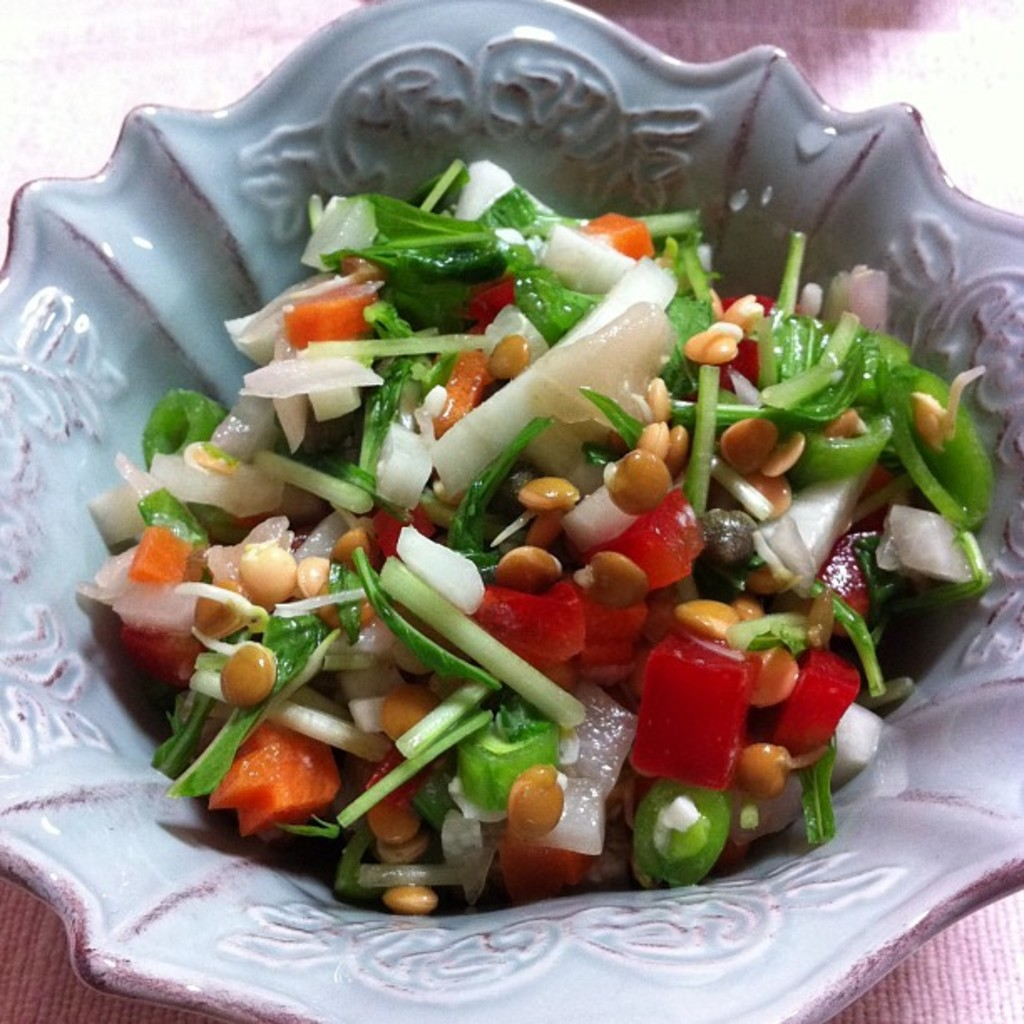salad: (74, 152, 997, 917)
